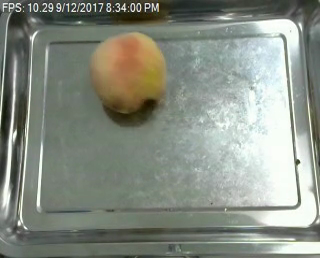Peach: (90, 30, 166, 116)
